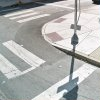crosswalk: (0, 39, 45, 79), (0, 7, 50, 23)
